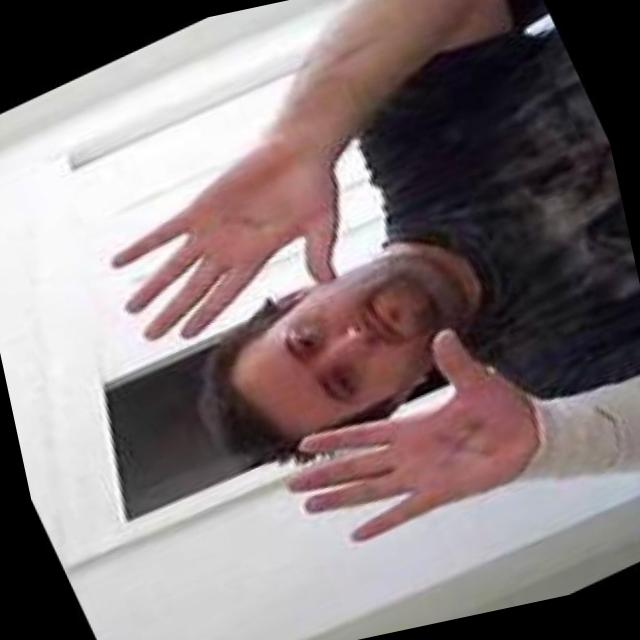not-gloved: (227, 286, 598, 598), (55, 112, 398, 392)
